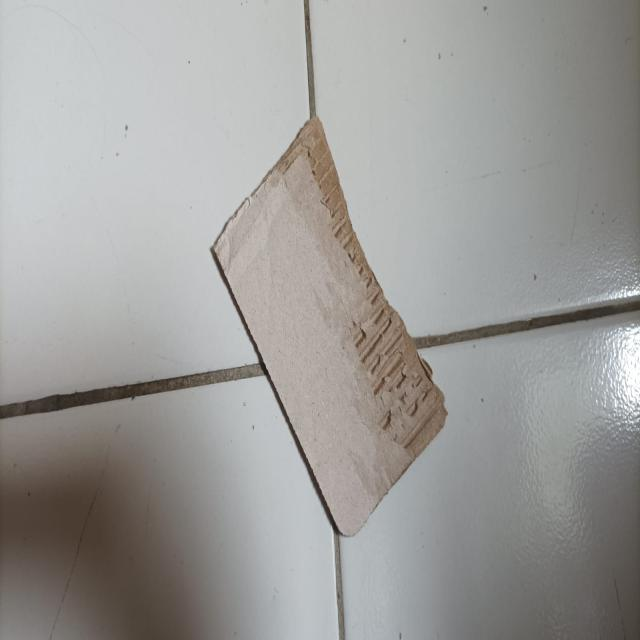Organik: (217, 119, 447, 539)
